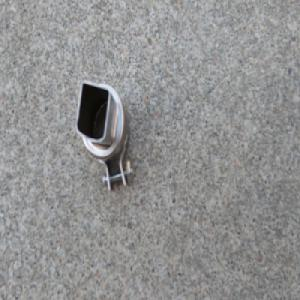MetalPart: (73, 76, 136, 197)
